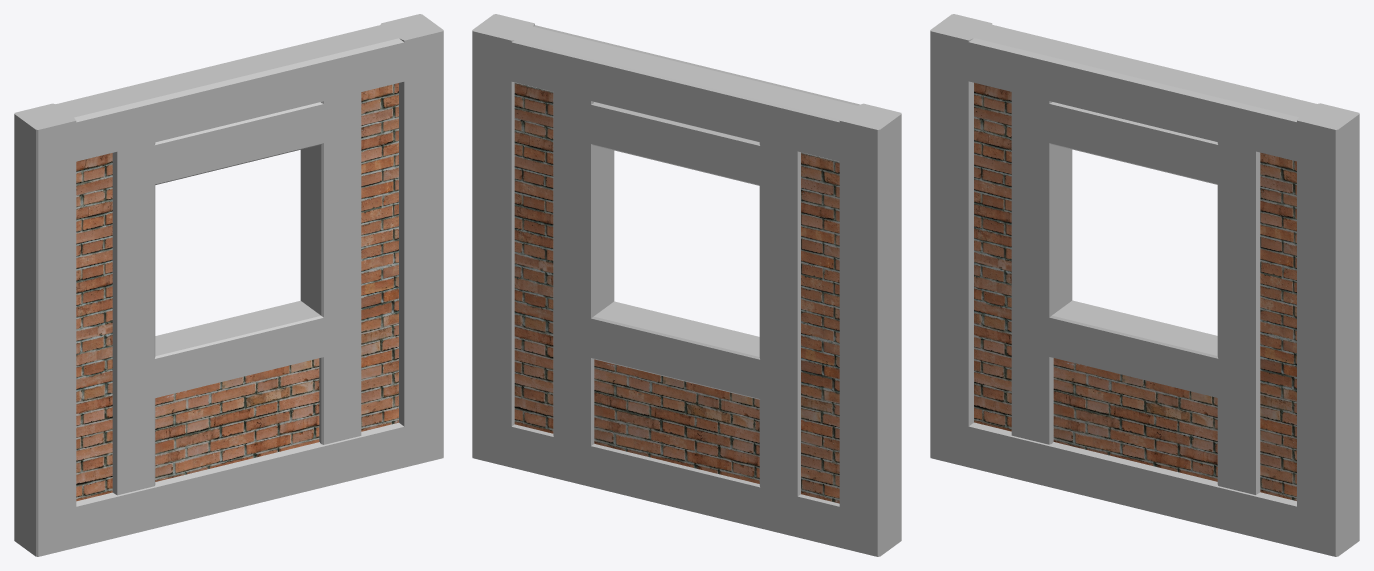
File: House Half Brick Window.fbx
3 renders of one model, left to right at view 1: azimuth 30°, elevation 25°; view 2: azimuth 150°, elevation 25°; view 3: azimuth 330°, elevation 25°, orthographic.
Parts seen in each view (by area): view 1: House Half Timber Window; view 2: House Half Timber Window; view 3: House Half Timber Window.
Boxes of the visible parts, x1,y1,x2,y2 form: House Half Timber Window: (14, 14, 443, 556); House Half Timber Window: (472, 14, 901, 556); House Half Timber Window: (930, 14, 1359, 556).
Size of the model in its own units: 250 by 250 by 25.
